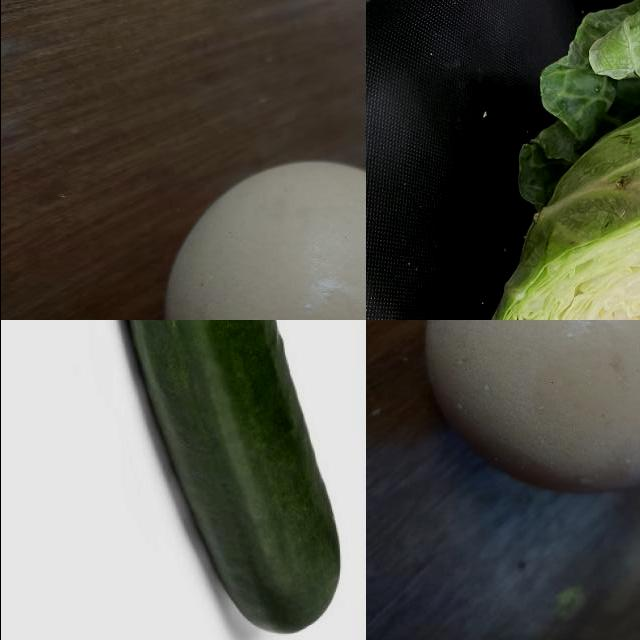cabbage: (476, 1, 640, 321)
cucumber: (90, 321, 350, 640)
egg: (419, 321, 640, 505), (155, 159, 366, 321)
